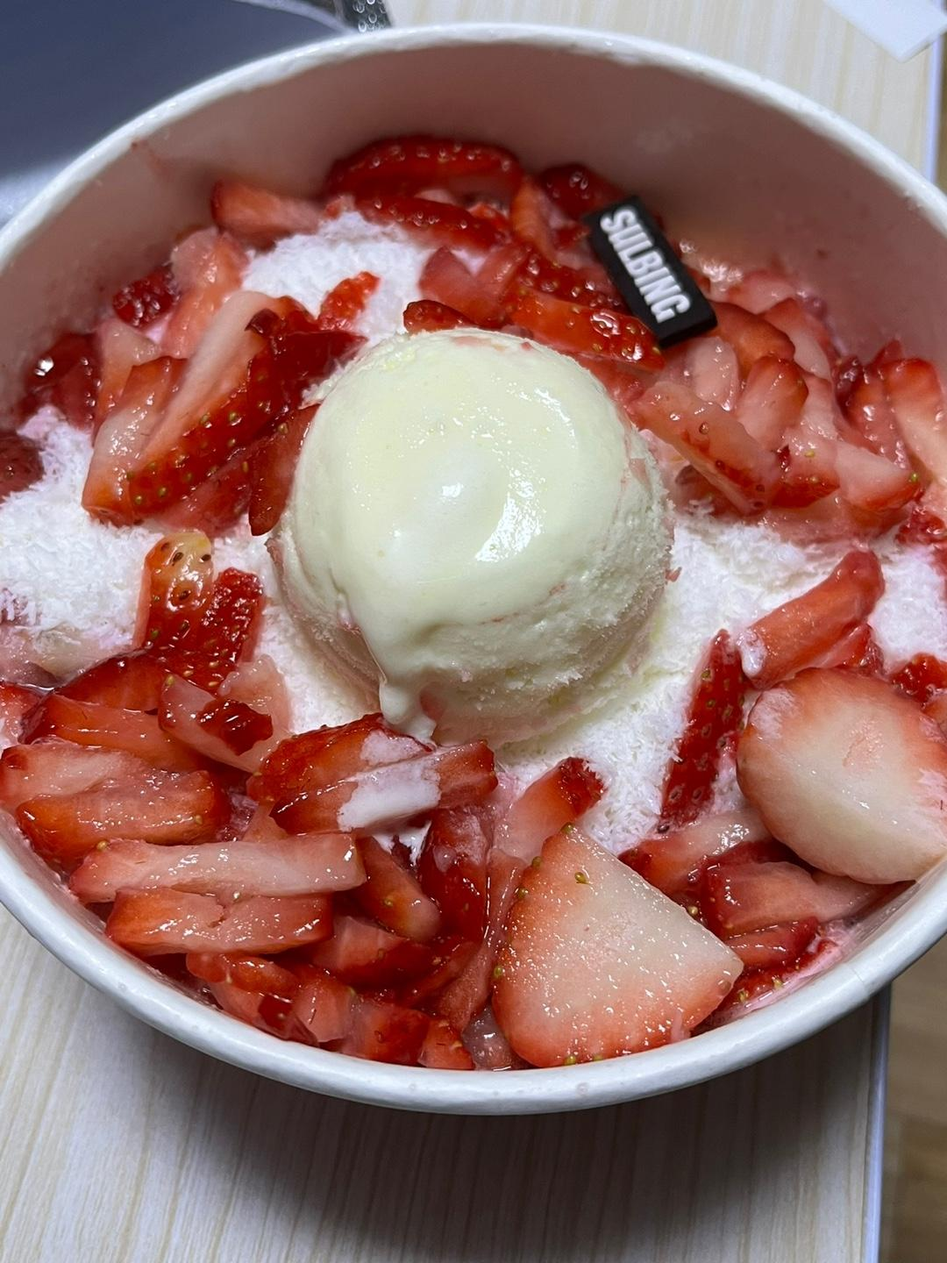Lunch Box: (0, 25, 946, 1113)
